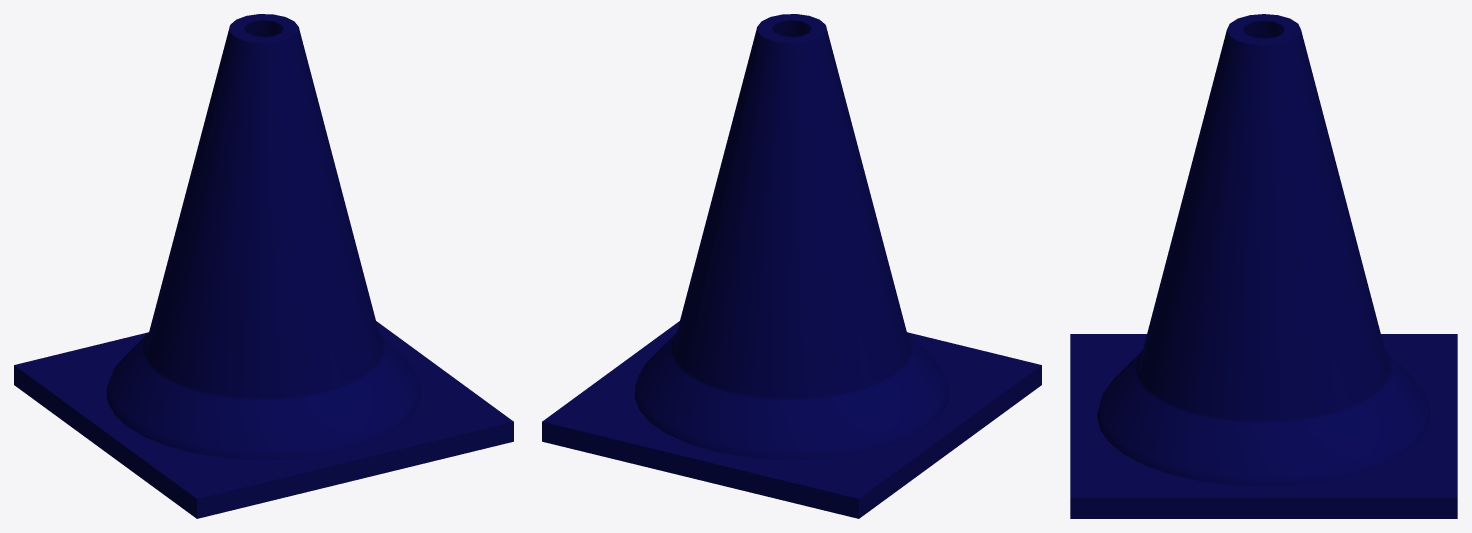
File: SM_TrafficCone.fbx
3 renders of one model, left to right at view 1: azimuth 30°, elevation 25°; view 2: azimuth 150°, elevation 25°; view 3: azimuth 270°, elevation 25°, orthographic. The views are drawn at different scales.
Parts seen in each view (by area): view 1: TrafficCone; view 2: TrafficCone; view 3: TrafficCone.
Boxes of the visible parts, x1=… form: TrafficCone: x1=14, y1=14, x2=513, y2=518; TrafficCone: x1=542, y1=14, x2=1041, y2=518; TrafficCone: x1=1070, y1=14, x2=1457, y2=518.
Size of the model in its own units: 29 by 33.65 by 29.
